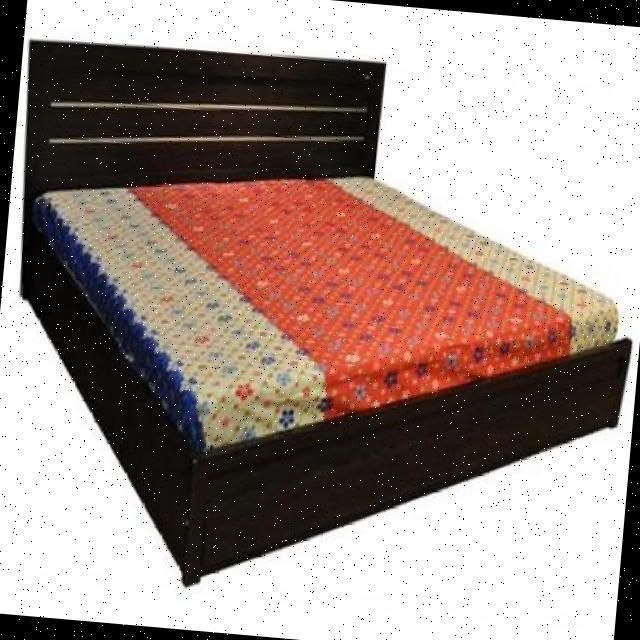Bed: (0, 21, 640, 628)
